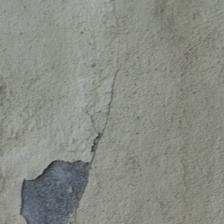Crack: (0, 21, 103, 103), (41, 0, 107, 81)
